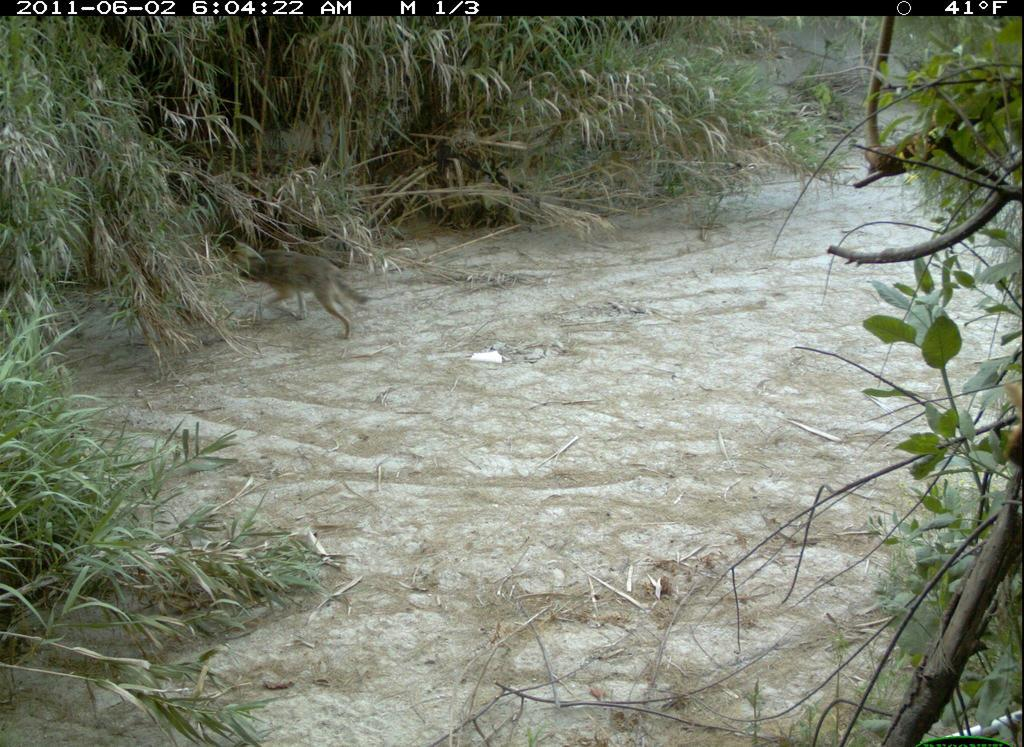coyote: (225, 237, 374, 345)
